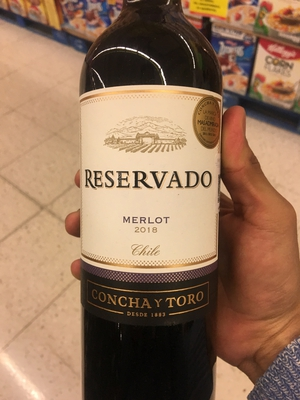reservado merlot: (75, 29, 231, 386)
